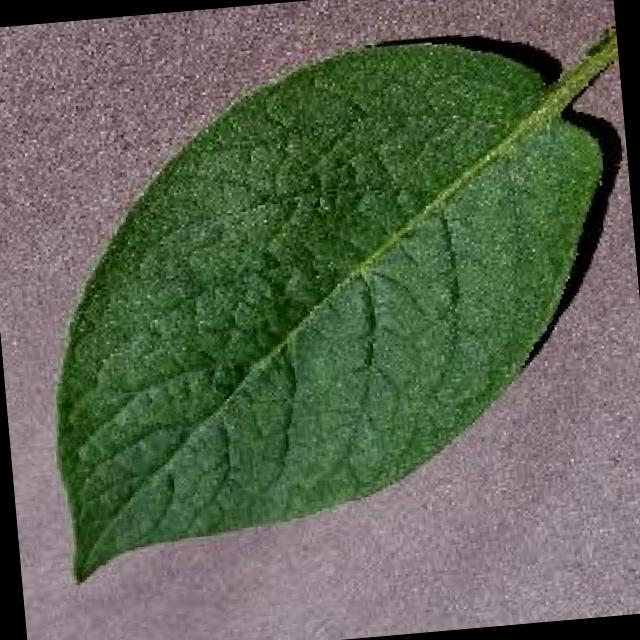healthy: (57, 31, 616, 579)
